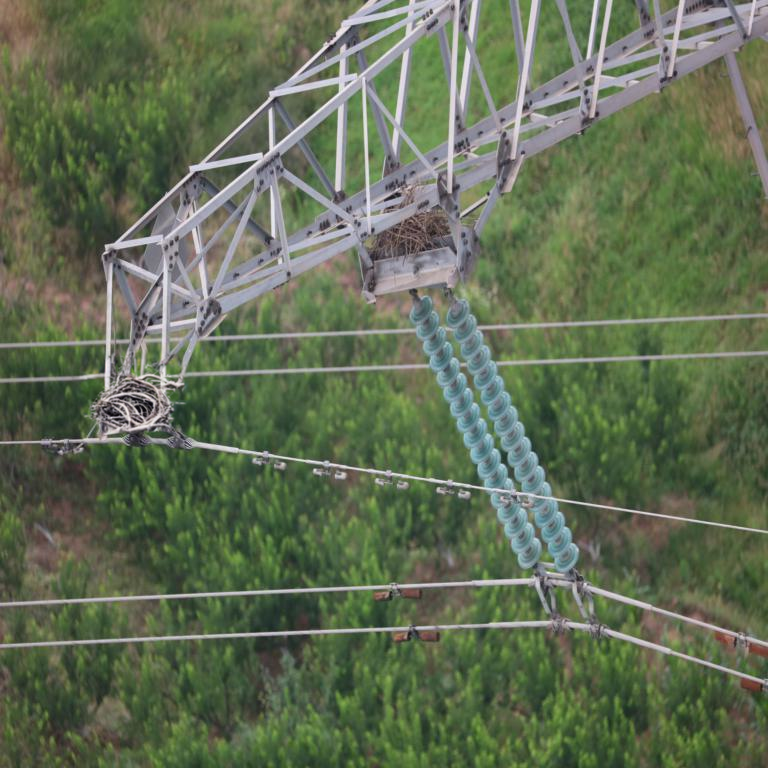nest: (376, 168, 450, 261), (94, 374, 177, 432)
